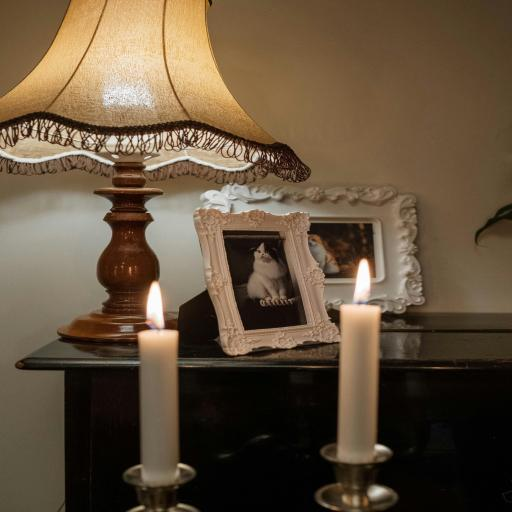candlelight: (121, 279, 200, 481), (340, 257, 388, 464)
